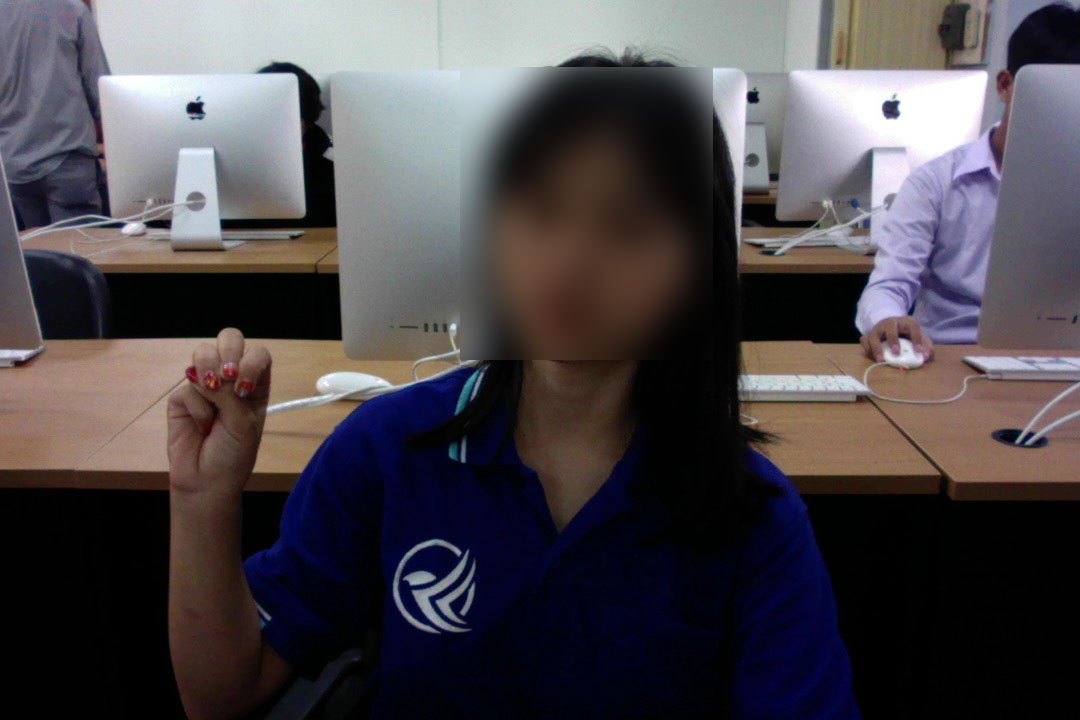mor: (150, 318, 277, 513)
